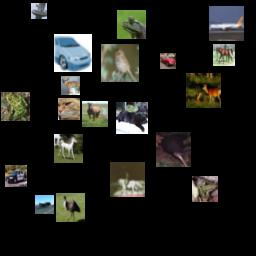airplane: (209, 6, 244, 41), (35, 195, 54, 214), (31, 3, 47, 19)
automobile: (54, 34, 92, 72), (5, 165, 27, 187), (160, 53, 176, 69)
bird: (101, 44, 139, 82), (156, 132, 191, 167), (56, 193, 85, 222)
cat: (116, 102, 148, 134), (58, 98, 80, 120)
deer: (186, 73, 221, 108)
dog: (61, 76, 80, 95)
frog: (117, 10, 146, 39), (1, 92, 30, 121), (192, 176, 218, 202)
